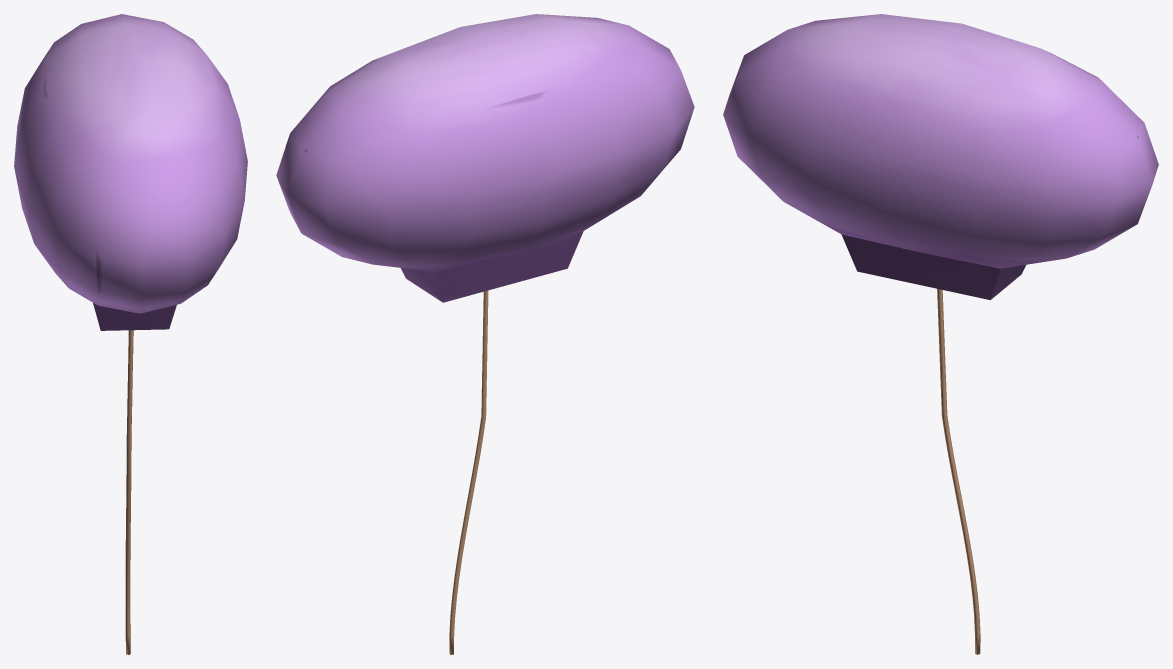
File: mini_zeppelin.fbx
The picture shows the model from 3 angles, left to right: view 1: azimuth 30°, elevation 25°; view 2: azimuth 150°, elevation 25°; view 3: azimuth 270°, elevation 25°; orthographic projection.
Parts seen in each view (by area): view 1: mini_zeppelin; view 2: mini_zeppelin; view 3: mini_zeppelin.
Boxes of the visible parts, x1,y1,x2,y2 form: mini_zeppelin: [14, 14, 247, 654]; mini_zeppelin: [276, 14, 694, 654]; mini_zeppelin: [723, 14, 1158, 654].
Size of the model in its own units: 180 by 395 by 255.
